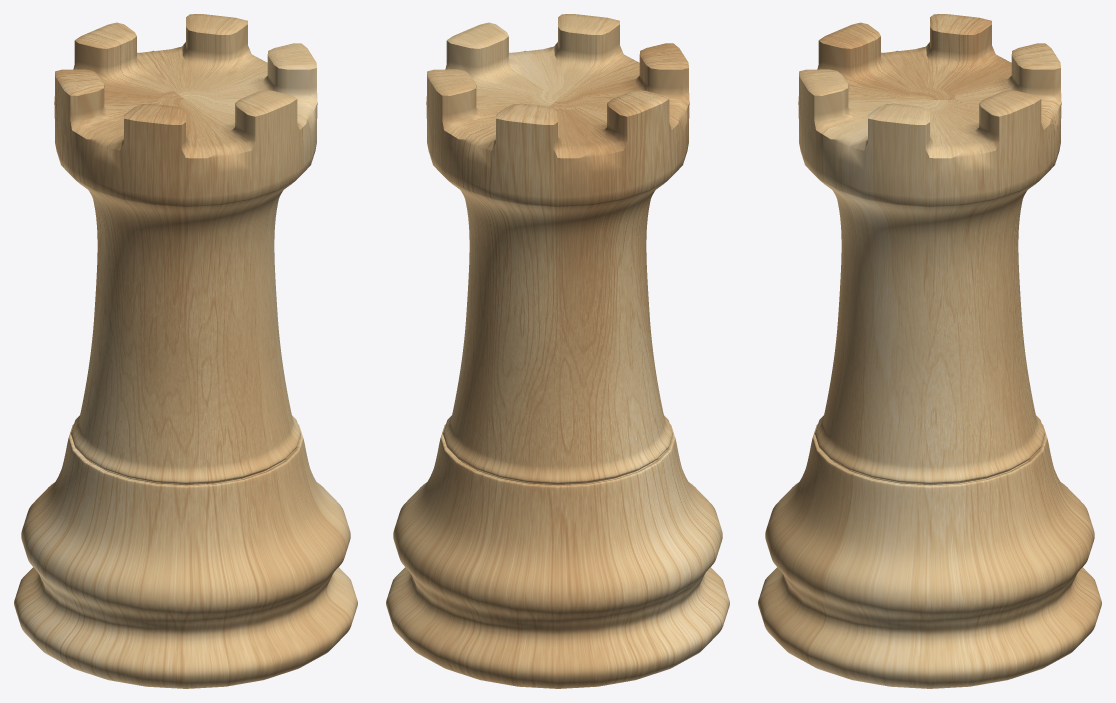
File: rook.gltf
3 views of the same model, side by side, from view 1: azimuth 30°, elevation 25°; view 2: azimuth 150°, elevation 25°; view 3: azimuth 270°, elevation 25° (orthographic).
Visible parts, largest first — view 1: mesh01; view 2: mesh01; view 3: mesh01.
Boxes of the visible parts, x1,y1,x2,y2 form: mesh01: (14,14,357,688); mesh01: (386,14,729,688); mesh01: (758,14,1101,688).
Size of the model in its own units: 13.12 by 23.88 by 13.12.
1 material, 1 textured.
